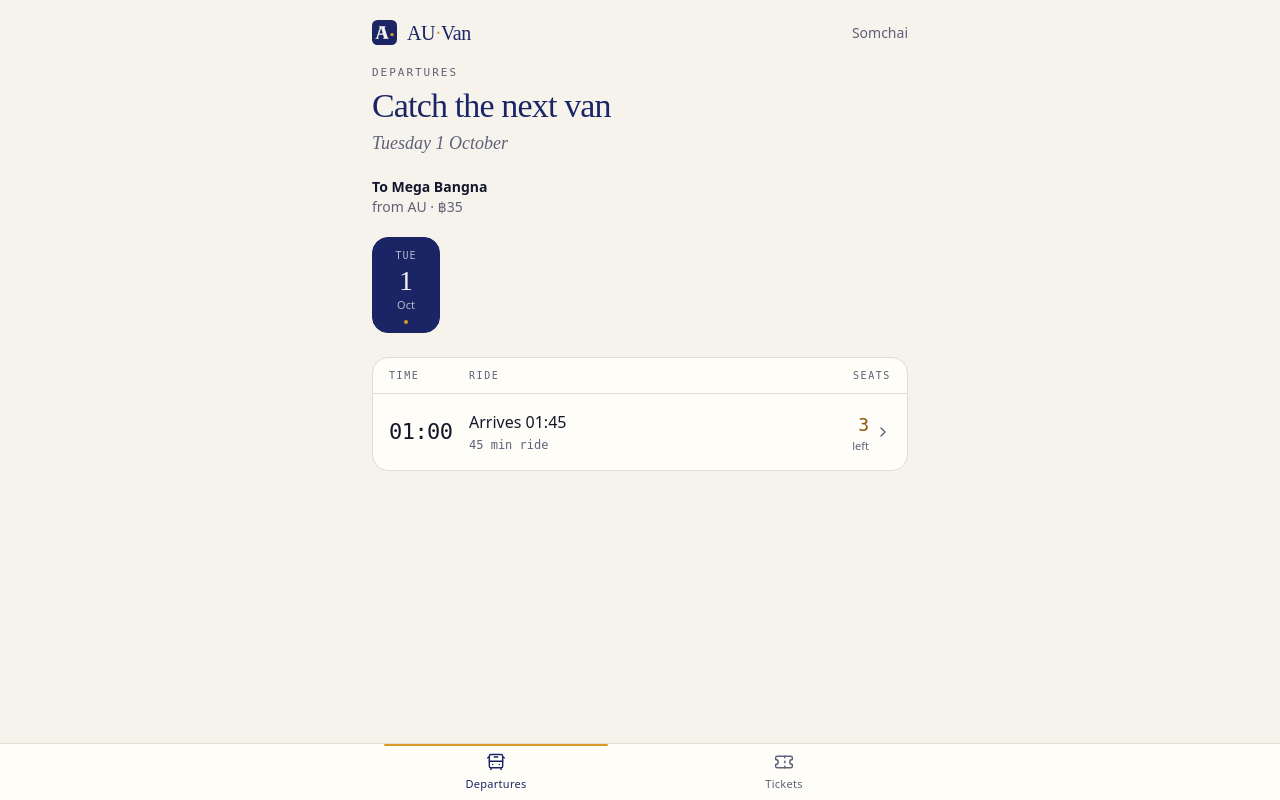
Test: Student app › returns to the trip list when the trip departs before the hold
Click the button with aria-label "Mega Bangna".
click(421, 432)  # box x1=373 y1=394 x2=907 y2=470
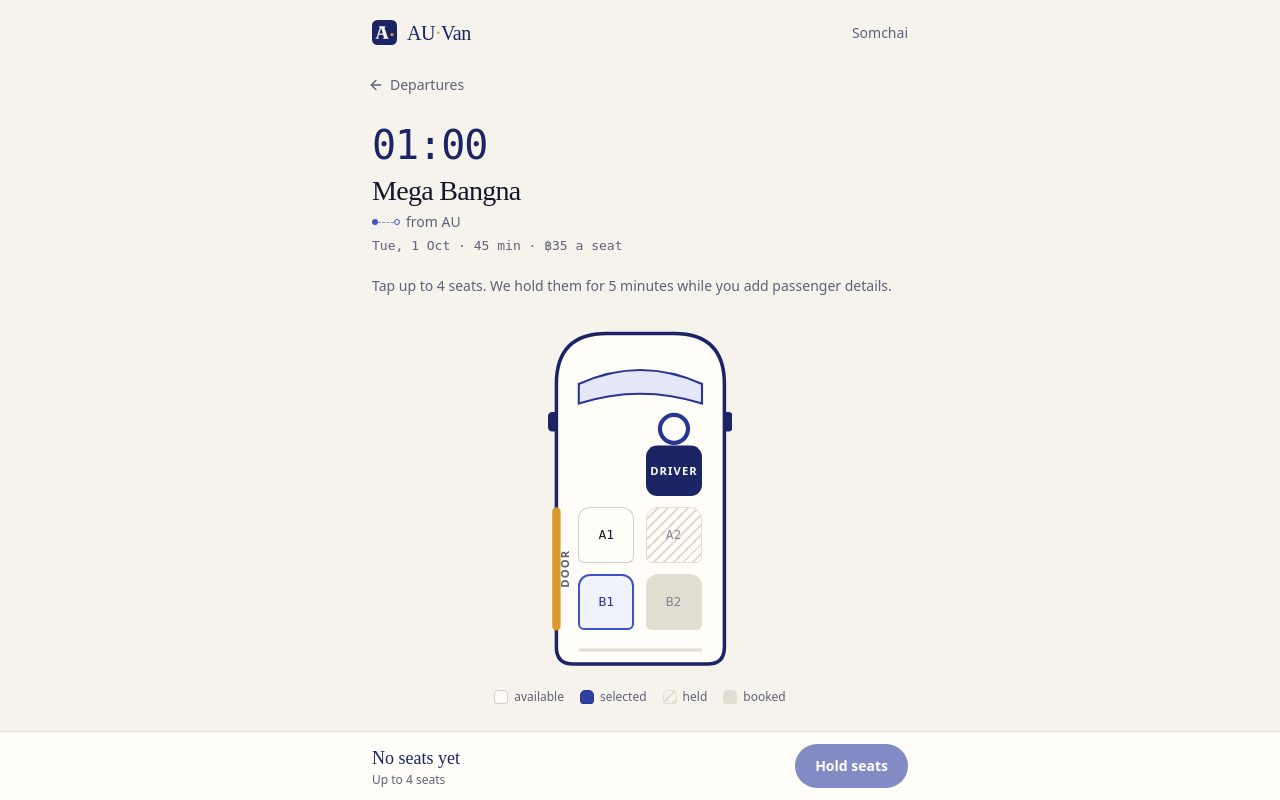
Click the button named "Seat A1, available".
click(606, 535)  # box x1=578 y1=507 x2=634 y2=563
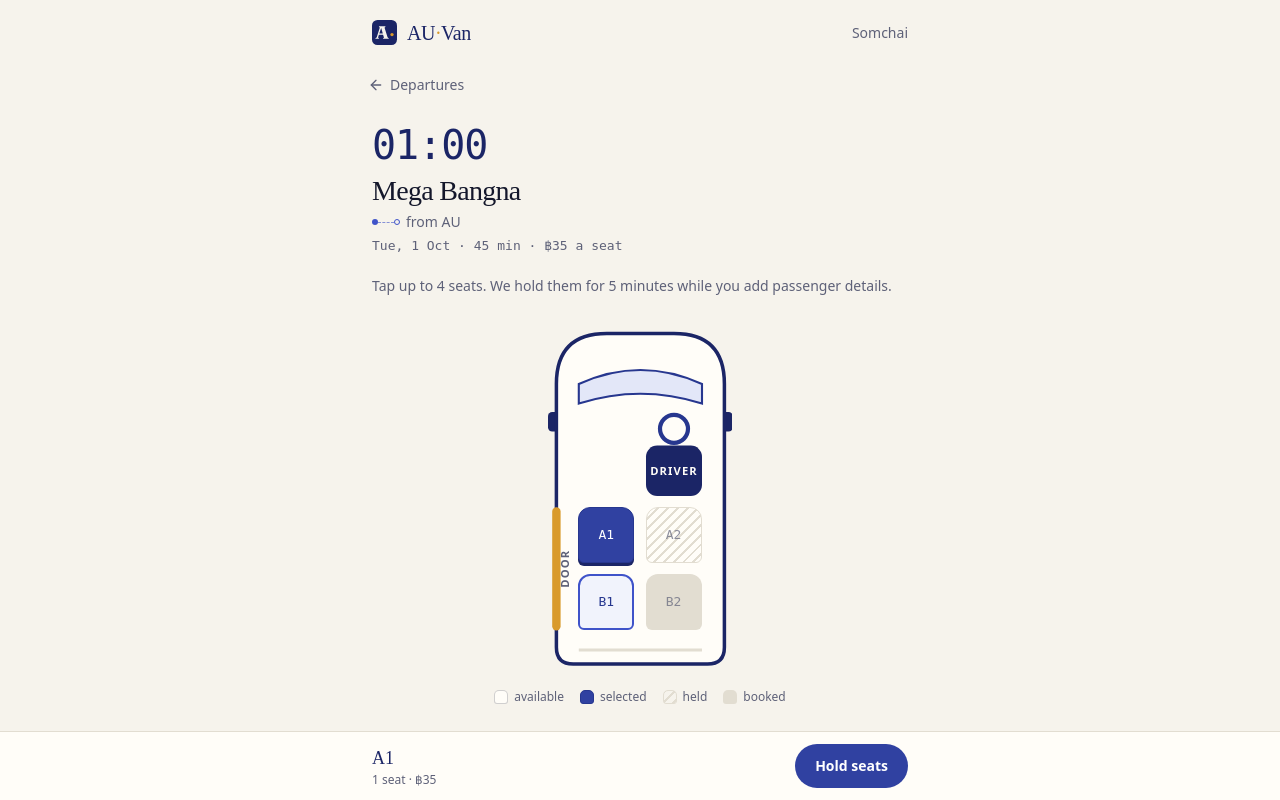
Click the button "Hold seats".
click(852, 766)  # box x1=795 y1=744 x2=908 y2=788
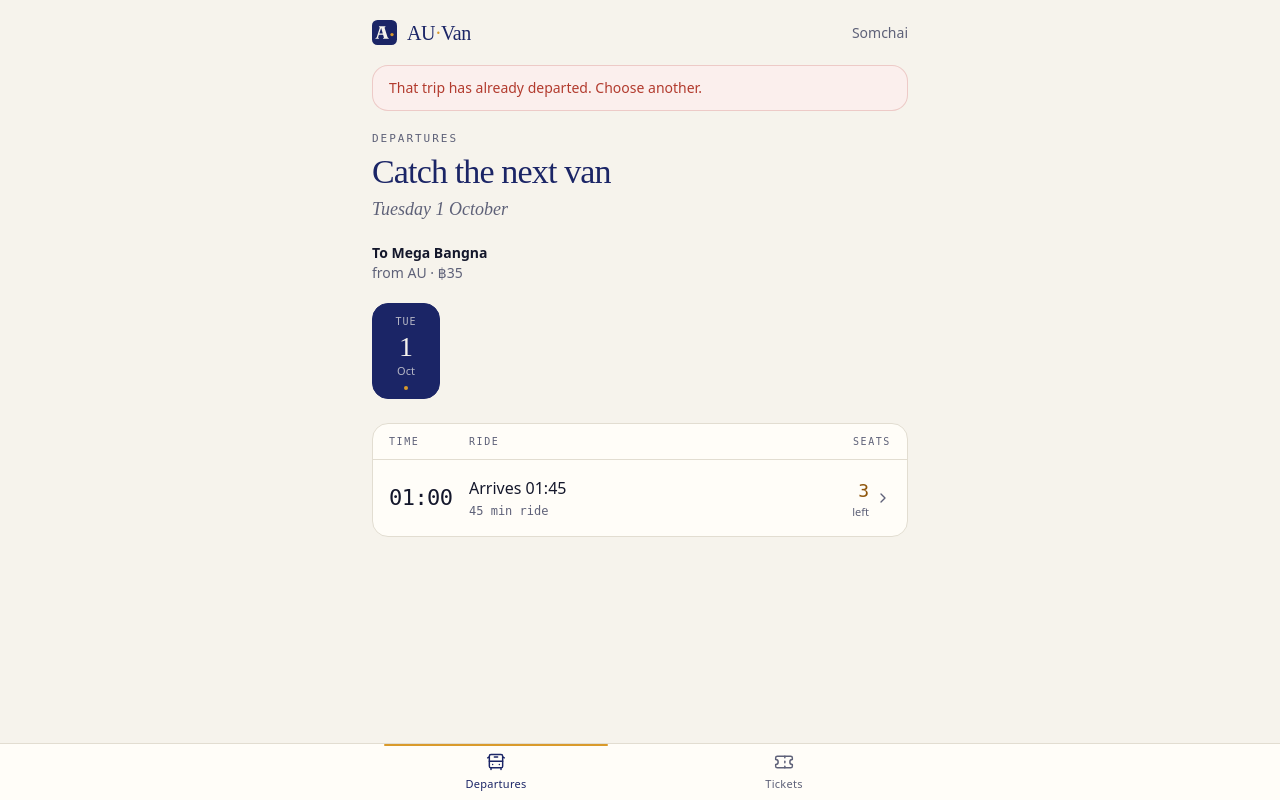
Check: the text "That trip has already departed. Choose another." is shown, box x1=372 y1=65 x2=908 y2=111
Check: the heading "Catch the next van" is shown, box x1=372 y1=152 x2=611 y2=190
